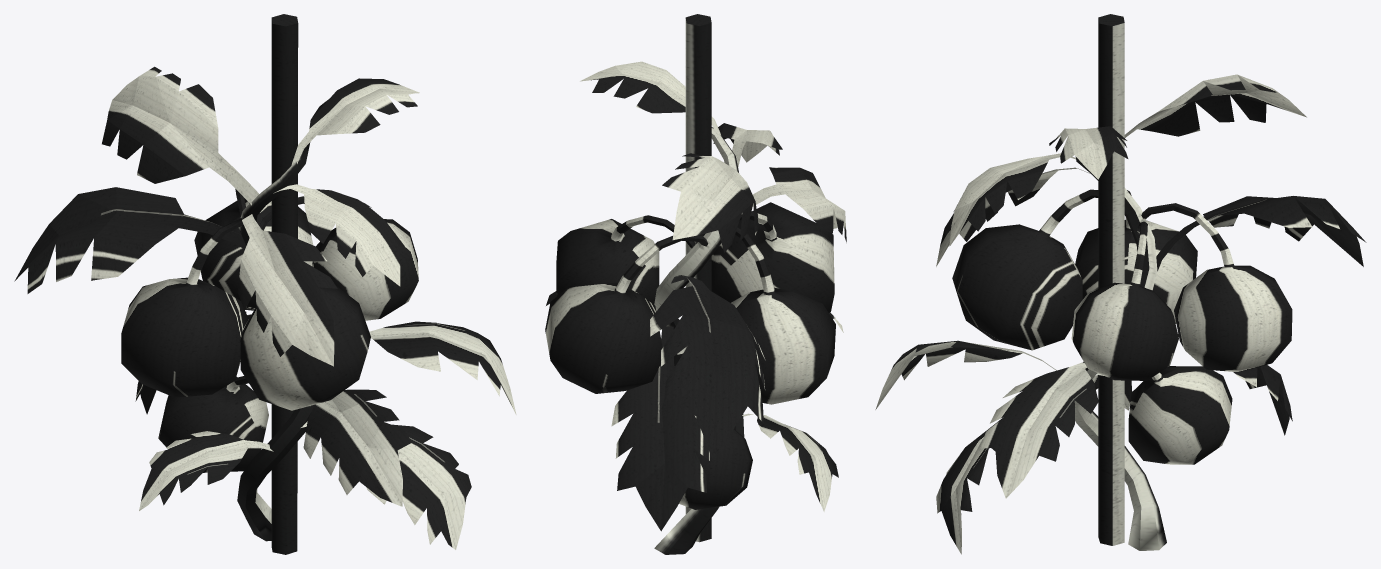
3 renders of one model, left to right at view 1: azimuth 30°, elevation 25°; view 2: azimuth 150°, elevation 25°; view 3: azimuth 270°, elevation 25°, orthographic. The views are drawn at different scales.
Parts seen in each view (by area): view 1: SM_Tomato_Lv3; view 2: SM_Tomato_Lv3; view 3: SM_Tomato_Lv3.
Part boxes in pixels (x1,y1,x2,y2): SM_Tomato_Lv3: [14, 14, 516, 554]; SM_Tomato_Lv3: [545, 14, 846, 554]; SM_Tomato_Lv3: [875, 14, 1366, 554].
Size of the model in its own units: 0.3262 by 0.4748 by 0.4068.
